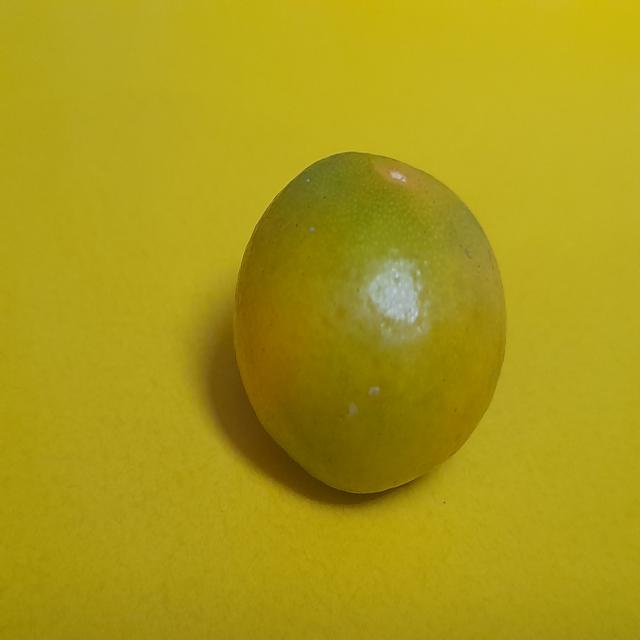greening: (229, 150, 507, 500)
